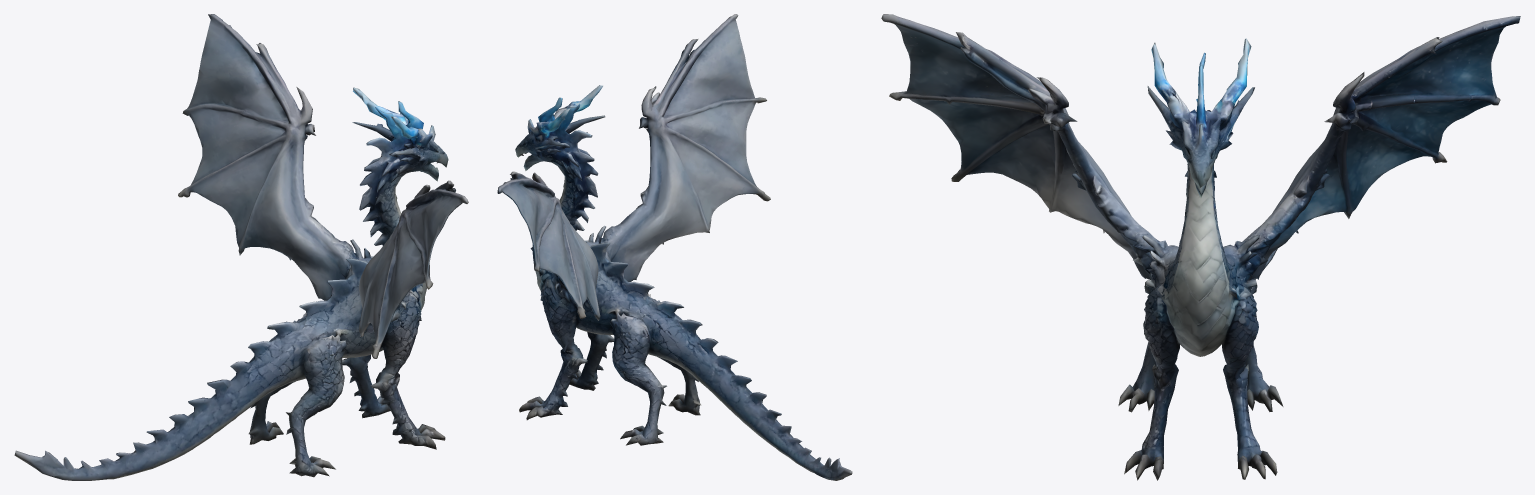
File: vyrath_gen_tripo_raw.glb
3 views of the same model, side by side, from view 1: azimuth 30°, elevation 25°; view 2: azimuth 150°, elevation 25°; view 3: azimuth 270°, elevation 25° (orthographic). The views are drawn at different scales.
Visible parts, largest first — view 1: tripo_node_59d5a0b8-aad5-488b-bfa7-526a08ad9245; view 2: tripo_node_59d5a0b8-aad5-488b-bfa7-526a08ad9245; view 3: tripo_node_59d5a0b8-aad5-488b-bfa7-526a08ad9245.
Boxes of the visible parts, x1,y1,x2,y2 form: tripo_node_59d5a0b8-aad5-488b-bfa7-526a08ad9245: [14, 14, 468, 480]; tripo_node_59d5a0b8-aad5-488b-bfa7-526a08ad9245: [497, 14, 852, 480]; tripo_node_59d5a0b8-aad5-488b-bfa7-526a08ad9245: [881, 14, 1520, 480].
Size of the model in its own units: 0.8923 by 0.727 by 1.
Materials: 1 (1 with a texture image).
